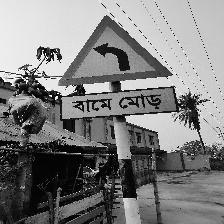Left-Turn: (57, 15, 176, 118)
